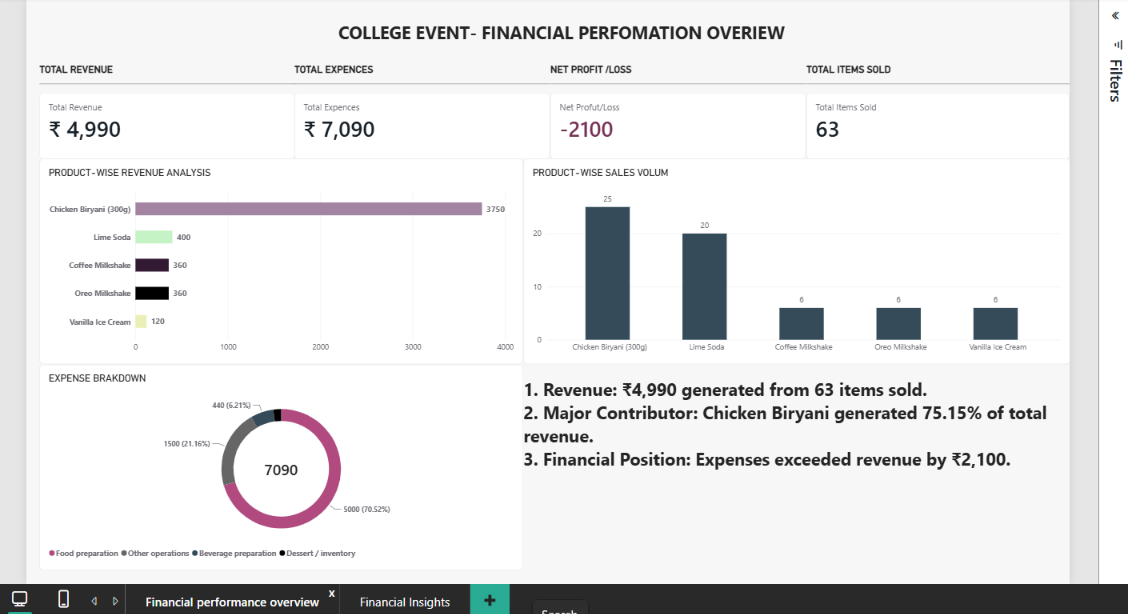

The dashboard page shown, as its layout file describes it:
{"tool":"powerbi","page":{"name":"Financial performance overview ","canvas":[1920,1080],"ordinal":0},"visuals":[{"type":"cardVisual","title":"TOTAL EXPENCES ","fields":{"Data":["SalesTable.Total Expences"]},"box":[494,121.2,470,175],"z":0},{"type":"cardVisual","title":"TOTAL REVENUE ","fields":{"Data":["SalesTable.Total Revenue"]},"box":[23.5,121.2,470,175],"z":1000},{"type":"cardVisual","title":"NET PROFIT /LOSS ","fields":{"Data":["SalesTable.Net Profut/Loss"]},"box":[964.5,121.2,470,175],"z":2000},{"type":"cardVisual","title":"TOTAL ITEMS SOLD ","fields":{"Data":["SalesTable.Total Items Sold"]},"box":[1435.1,121.2,485,175.5],"z":3000},{"type":"clusteredBarChart","title":"PRODUCT-WISE REVENUE ANALYSIS ","fields":{"Category":["SalesTable.Product"],"Y":["Sum(SalesTable.Revenue_INR)"]},"box":[23.5,296.8,890.4,378.2],"z":4000},{"type":"donutChart","title":"EXPENSE BRAKDOWN ","fields":{"Category":["ExpenseTable.Expense_Category"],"Y":["Sum(ExpenseTable.Amount_INR)"]},"box":[23.5,675,890.4,378.2],"z":5000},{"type":"clusteredColumnChart","title":"PRODUCT-WISE SALES VOLUM ","fields":{"Category":["ProductMasterTable.Product"],"Y":["Sum(ProductMasterTable.Quantity_Sold)"]},"box":[913.9,296.8,1006.2,378.2],"z":6000},{"type":"textbox","box":[573.7,41.6,912.1,54.3],"z":7000},{"type":"textbox","box":[913.9,698.5,1006.2,267.8],"z":8000}]}

Visuals, with their boxes on the page's 1920x1080 design canvas (x1, y1, x2, y2). These are canvas units, not pixel positions in the 1128x614 screenshot, which may show the page scaled, cropped or inside an application window:
"TOTAL EXPENCES " cardVisual: (494, 121, 964, 296)
"TOTAL REVENUE " cardVisual: (24, 121, 494, 296)
"NET PROFIT /LOSS " cardVisual: (964, 121, 1434, 296)
"TOTAL ITEMS SOLD " cardVisual: (1435, 121, 1920, 297)
"PRODUCT-WISE REVENUE ANALYSIS " clusteredBarChart: (24, 297, 914, 675)
"EXPENSE BRAKDOWN " donutChart: (24, 675, 914, 1053)
"PRODUCT-WISE SALES VOLUM " clusteredColumnChart: (914, 297, 1920, 675)
textbox: (574, 42, 1486, 96)
textbox: (914, 698, 1920, 966)
